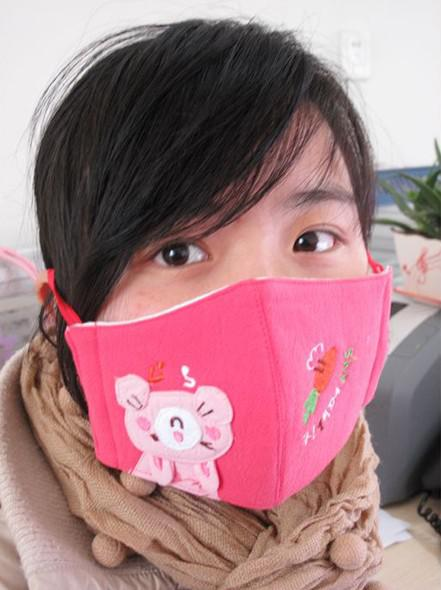OK: (73, 182, 373, 482)
